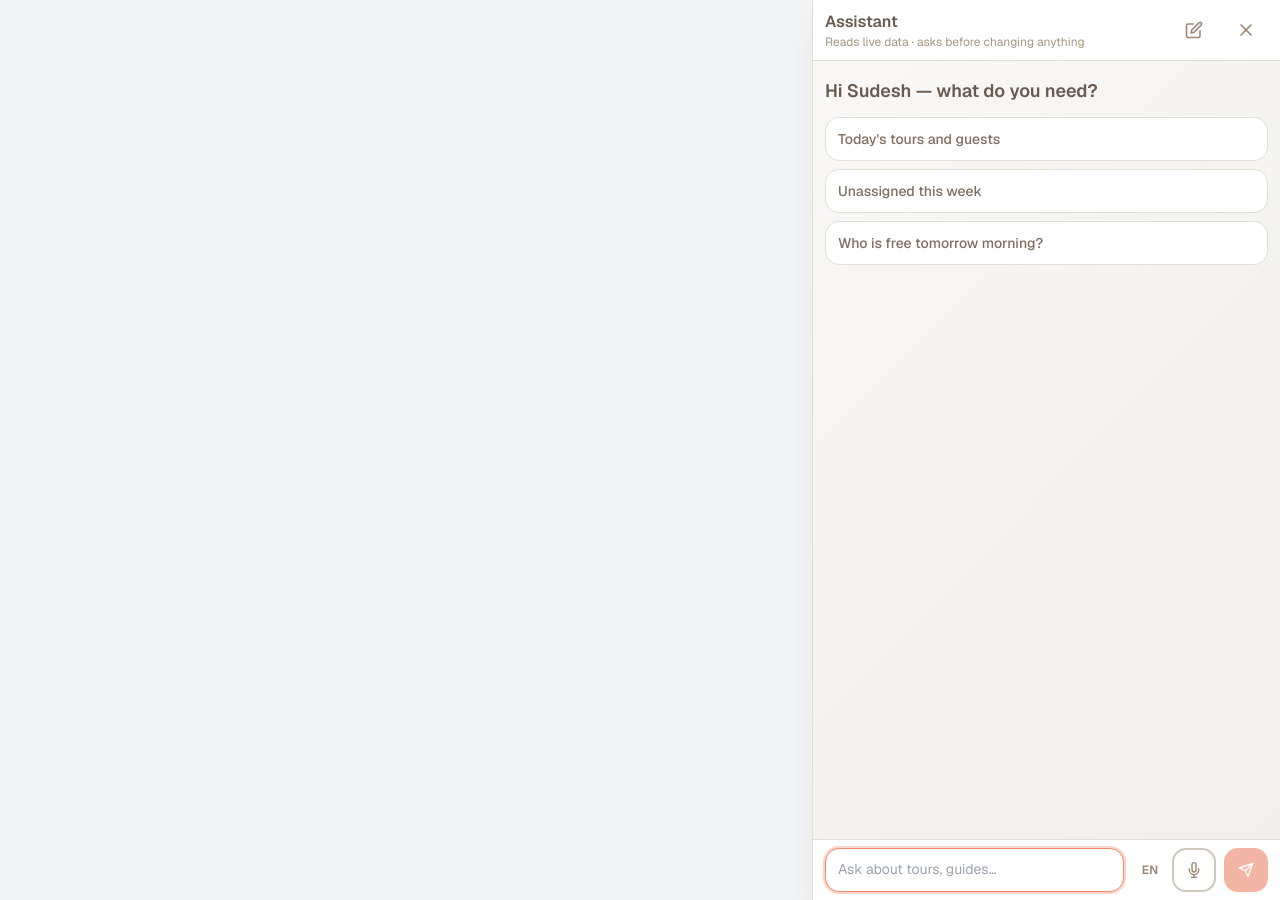
AssistantPanel (step 7.4) › assistant text is plain text: a <script> in the answer is shown, not run
Step 1. Click the button "Today's tours and guests" → point(919, 139), box [825,117,1268,161]
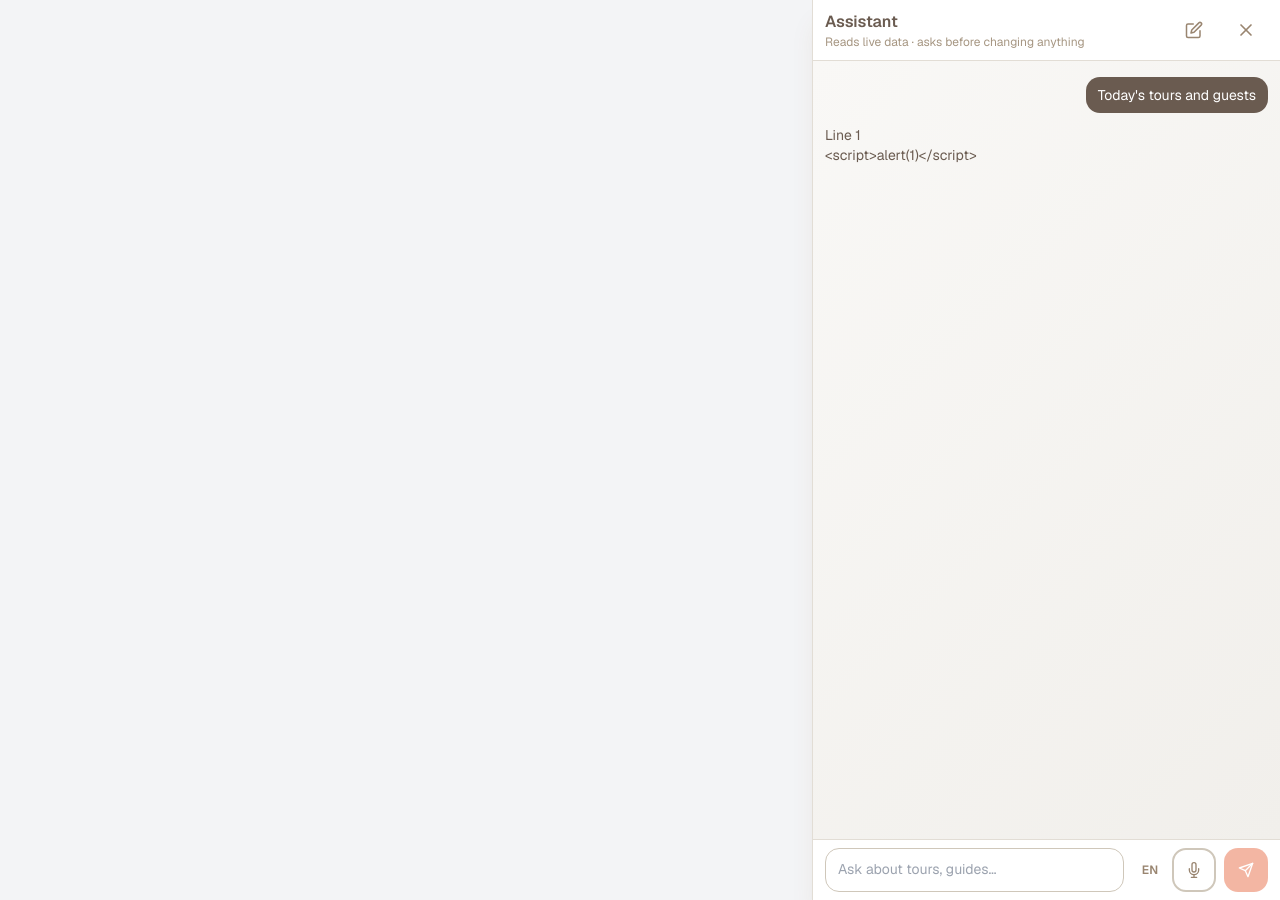
Expected: the text "Line 1 <script>alert(1)</script>" is shown, [825,126,977,164]
